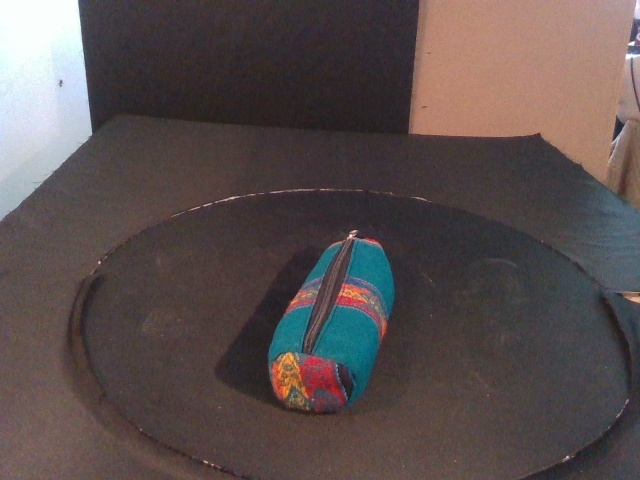pencil_case: (266, 237, 396, 412)
